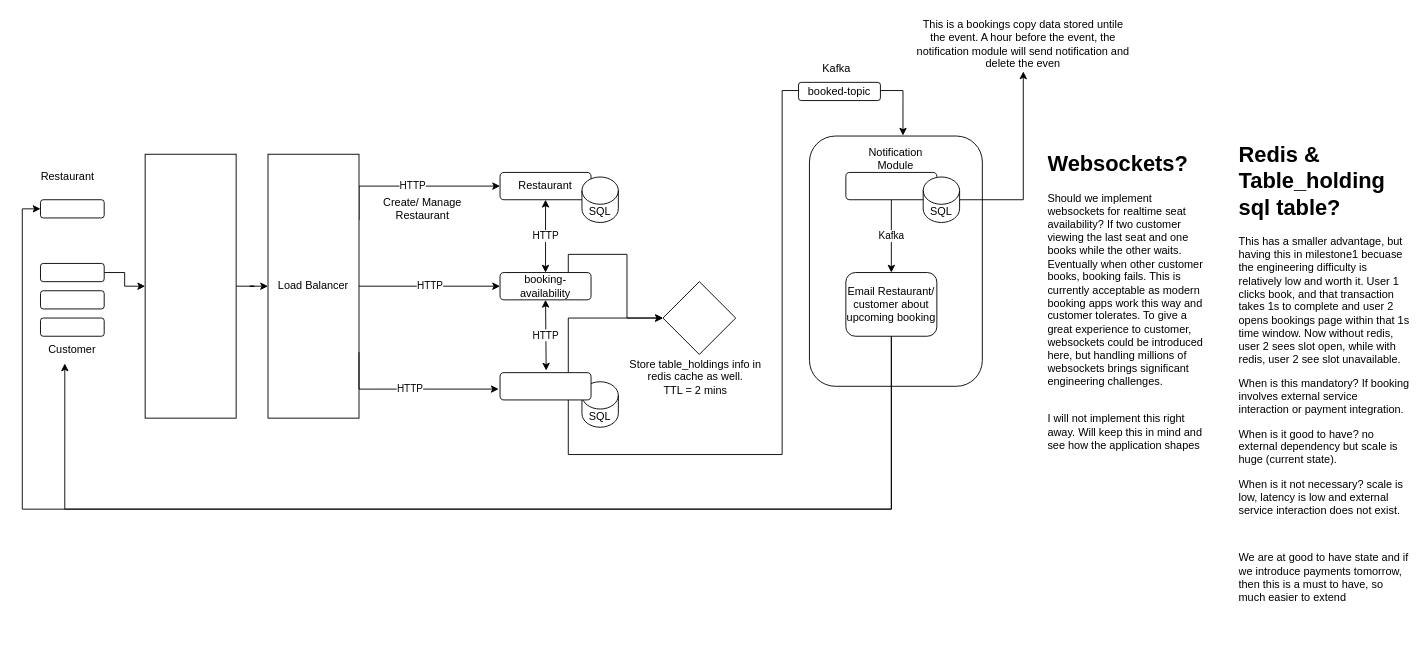
The diagram is 1426 pixels wide and 654 high, and some of its shapes have lost their labels. Each missing label, with the centre of its shape:
API Gateway rate-limiting security: (190,285)
Booking: (545,386)
Redis: (699,317)
Scheduler: (891,186)
